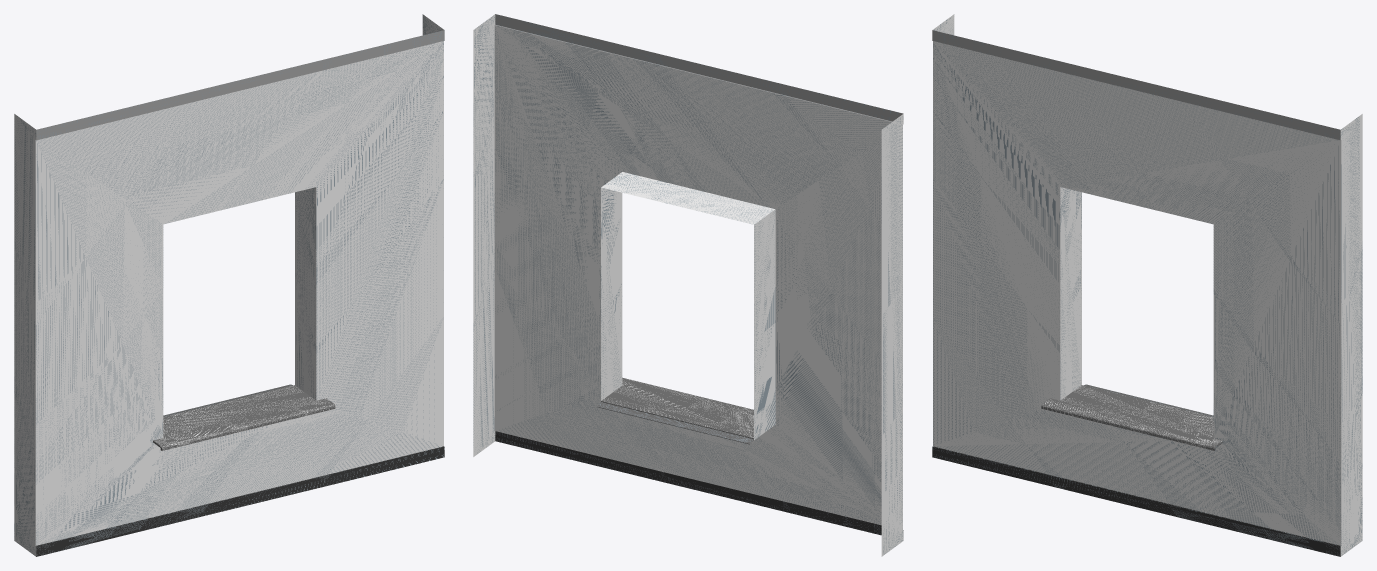
The model's file is WindowBlock_os_plinth_[400x400]_150x200x[080].dae.
3 views of the same model, side by side, from view 1: azimuth 30°, elevation 25°; view 2: azimuth 150°, elevation 25°; view 3: azimuth 330°, elevation 25° (orthographic).
Parts seen in each view (by area): view 1: group_1 (×4), group_2; view 2: group_1 (×4), group_2 (×2); view 3: group_1 (×4), group_2.
Part boxes in pixels (bbox=[...]): group_1 (×4): bbox=[14, 14, 444, 556]; group_2: bbox=[153, 385, 335, 450]; group_1 (×4): bbox=[473, 14, 903, 556]; group_2 (×2): bbox=[597, 377, 753, 444]; group_1 (×4): bbox=[932, 14, 1362, 556]; group_2: bbox=[1041, 385, 1223, 450].
Size of the model in its own units: 157 by 23.03 by 157.
